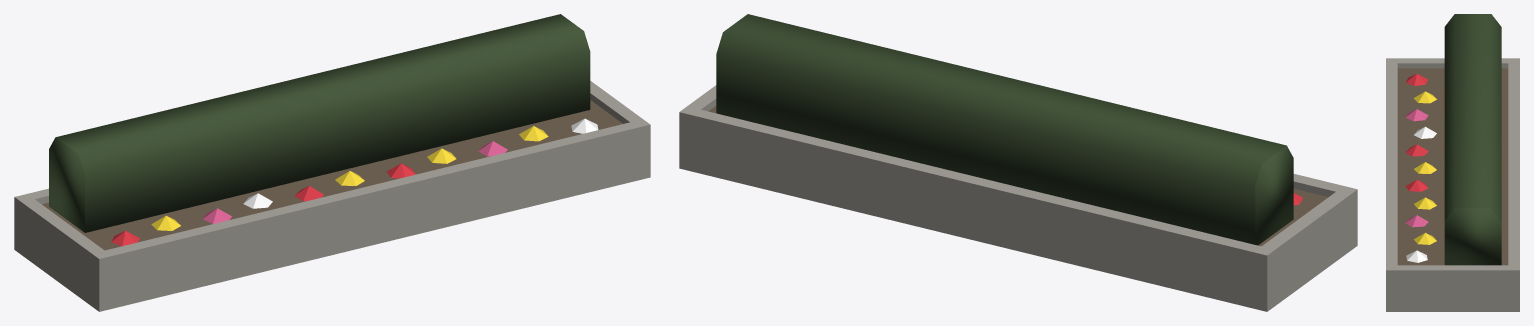
File: site_planter.fbx
3 renders of one model, left to right at view 1: azimuth 30°, elevation 25°; view 2: azimuth 150°, elevation 25°; view 3: azimuth 270°, elevation 25°, orthographic. The views are drawn at different scales.
Visible parts, largest first — view 1: a3009/0/site_planter; view 2: a3009/0/site_planter; view 3: a3009/0/site_planter.
Part boxes in pixels (x1,y1,x2,y2): a3009/0/site_planter: (14, 14, 650, 311); a3009/0/site_planter: (679, 14, 1357, 311); a3009/0/site_planter: (1386, 14, 1519, 311).
Size of the model in its own units: 6 by 1.25 by 1.6.
